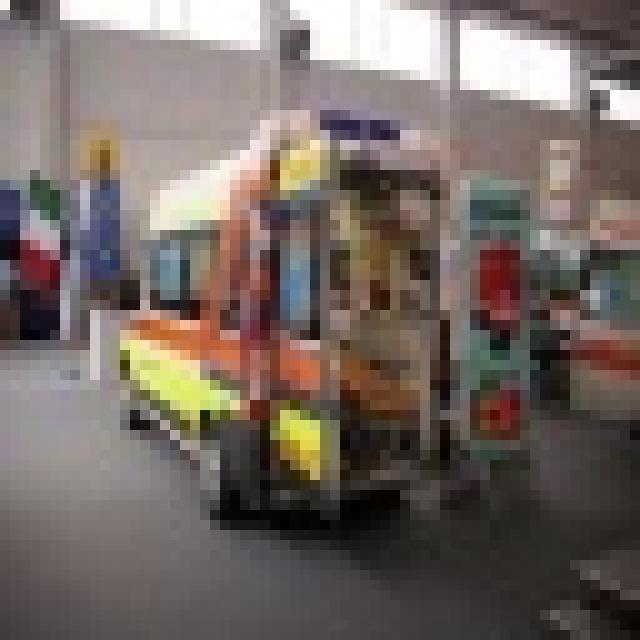Ambulance: (110, 100, 530, 520)
